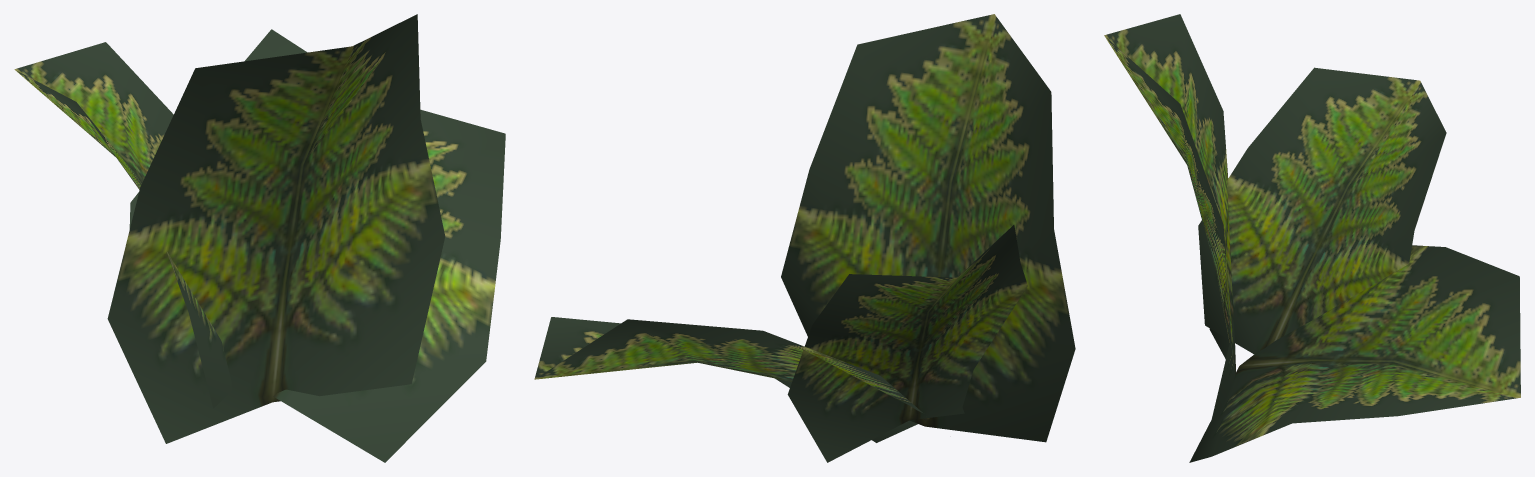
Rendered from n_grass02_2.glb.
The picture shows the model from 3 angles, left to right: view 1: azimuth 30°, elevation 25°; view 2: azimuth 150°, elevation 25°; view 3: azimuth 270°, elevation 25°; orthographic projection. The views are drawn at different scales.
Visible parts, largest first — view 1: n_grass02_2; view 2: n_grass02_2; view 3: n_grass02_2.
Boxes of the visible parts, <box> form: n_grass02_2: <box>14,14,505,462</box>; n_grass02_2: <box>534,14,1075,462</box>; n_grass02_2: <box>1104,14,1520,462</box>.
Size of the model in its own units: 0.7746 by 0.7034 by 0.6752.
Materials: 1 (1 with a texture image).
